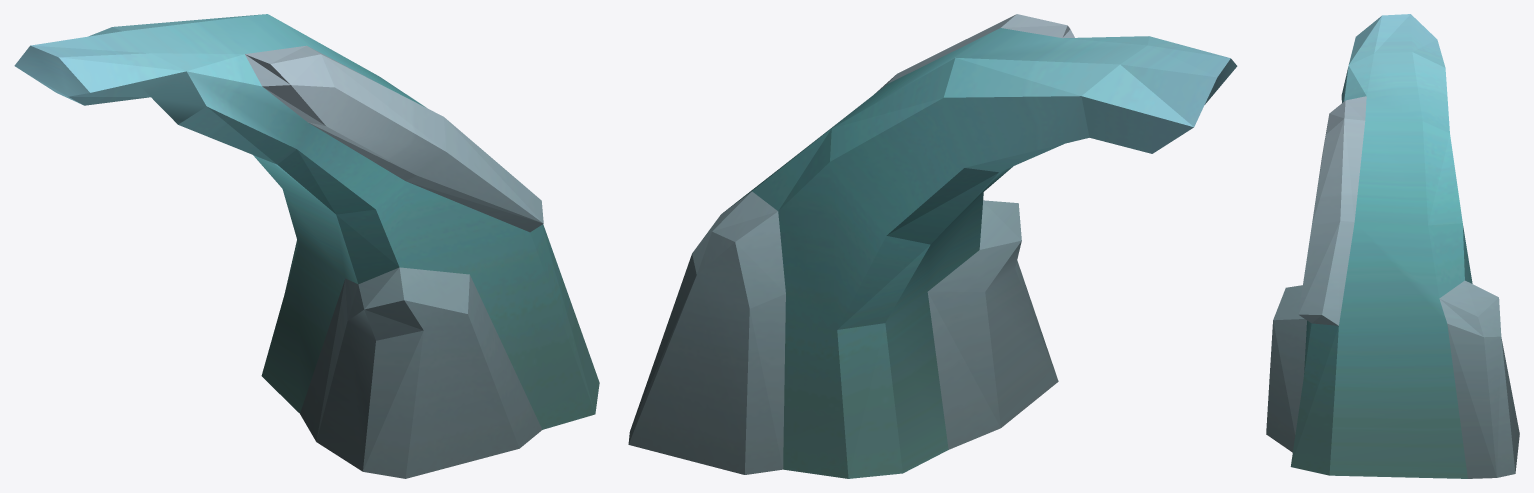
The model's file is cliff_ice.FBX.
The picture shows the model from 3 angles, left to right: view 1: azimuth 30°, elevation 25°; view 2: azimuth 150°, elevation 25°; view 3: azimuth 270°, elevation 25°; orthographic projection. The views are drawn at different scales.
Parts seen in each view (by area): view 1: cliff_ice; view 2: cliff_ice; view 3: cliff_ice.
Boxes of the visible parts, left/top/right/bottom form: cliff_ice: left=14, top=14, right=599, bottom=478; cliff_ice: left=628, top=14, right=1237, bottom=478; cliff_ice: left=1266, top=14, right=1519, bottom=478.
Bounding box in the file's own units: 26.3 × 21.28 × 16.38.
